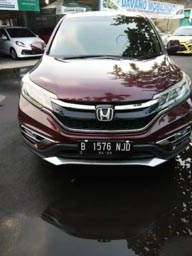plat: (77, 140, 132, 151)
